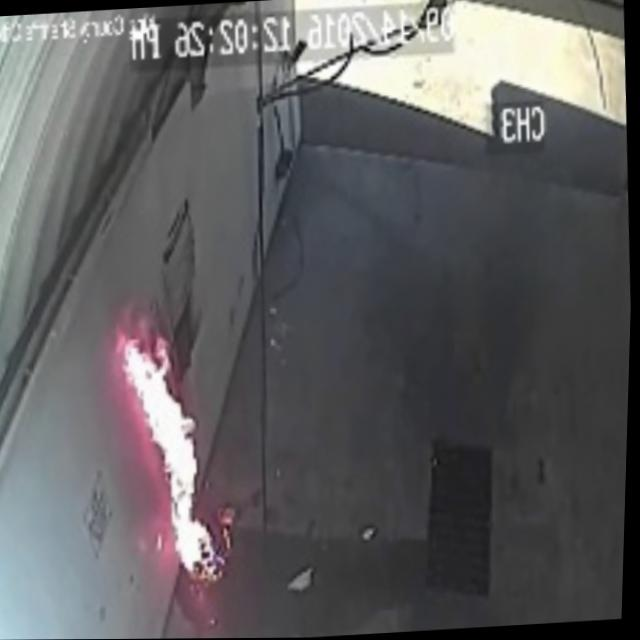fire: (107, 314, 244, 598)
